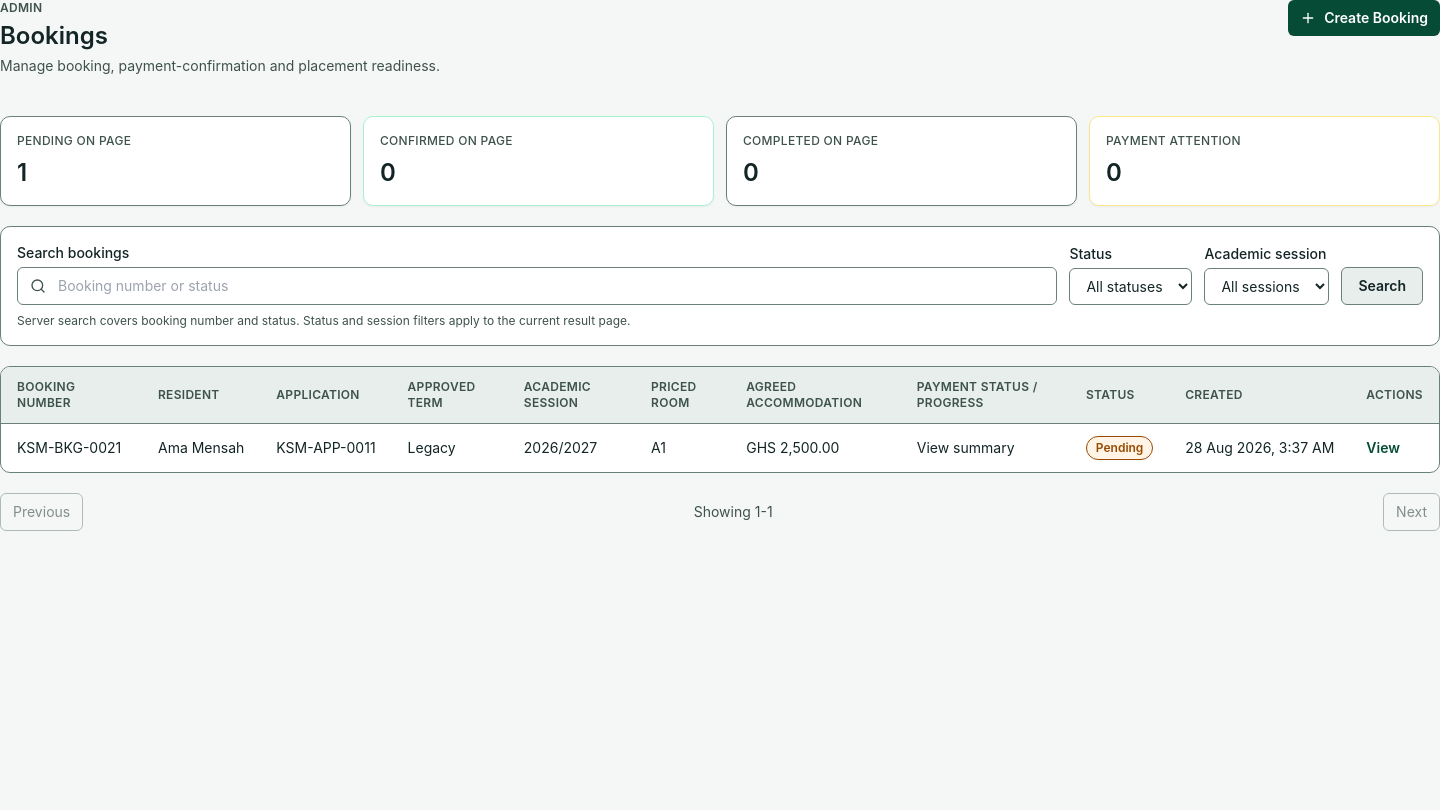
Scenario: BookingsPage › opens booking detail with payment summary and pricing basis
Click the button "View". click: (1383, 448)
box: [1366,438,1400,458]
(page scrolled)
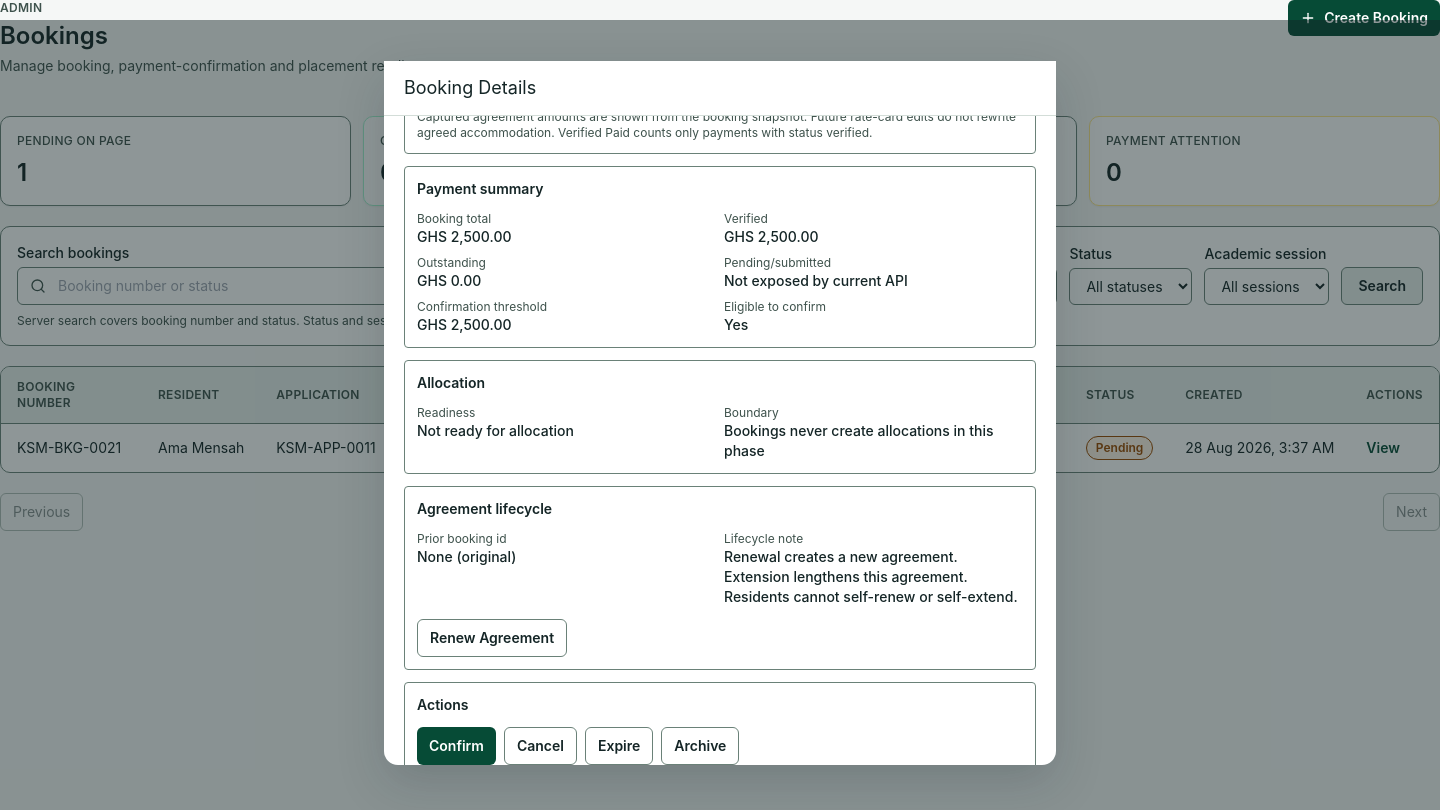
Now the text "Eligible to confirm" is shown, box [724,298,826,314]
Now the text "Bookings never create allocations in this phase" is shown, box [724,420,1023,460]
